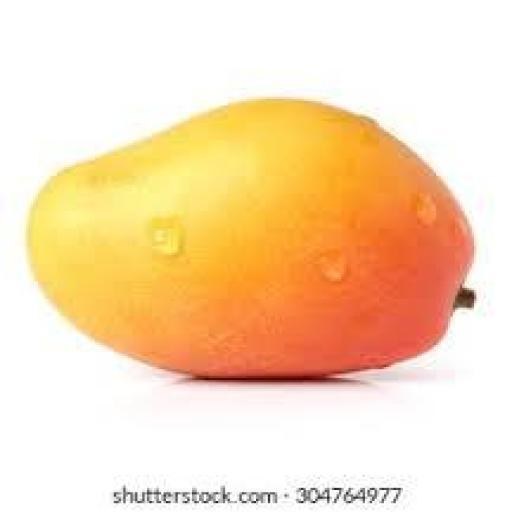mango: (29, 99, 474, 377)
